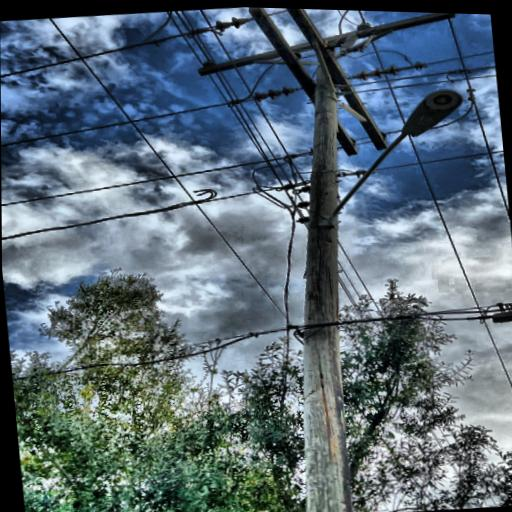pole: (233, 29, 397, 512)
street light: (298, 79, 478, 236)
